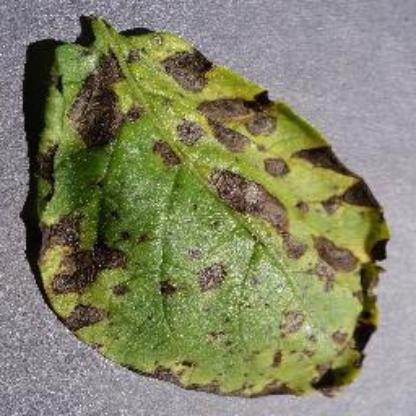Early-Blight: (29, 10, 397, 404)
